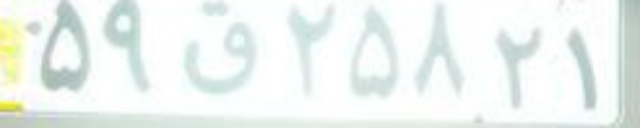1: (563, 26, 598, 110)
2: (283, 4, 336, 95), (493, 25, 544, 107)
5: (38, 0, 93, 93), (348, 10, 399, 99)
8: (408, 3, 468, 98)
9: (101, 0, 151, 94)
ghaf: (178, 0, 258, 94)
